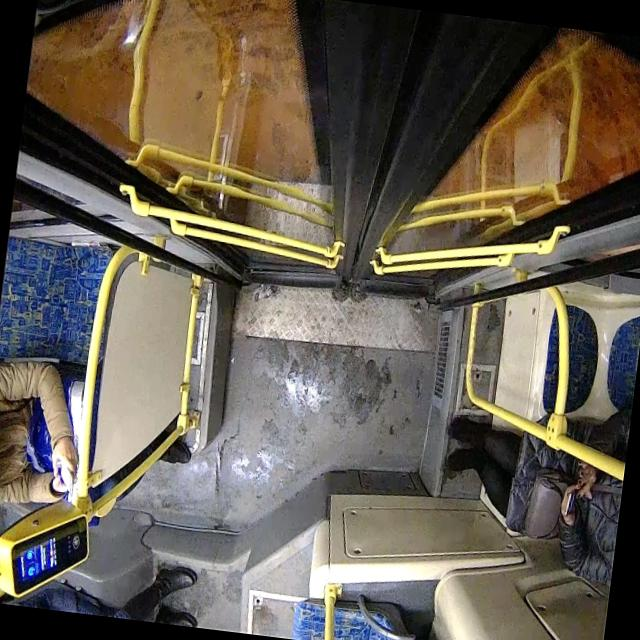bus-door: (20, 0, 640, 295)
